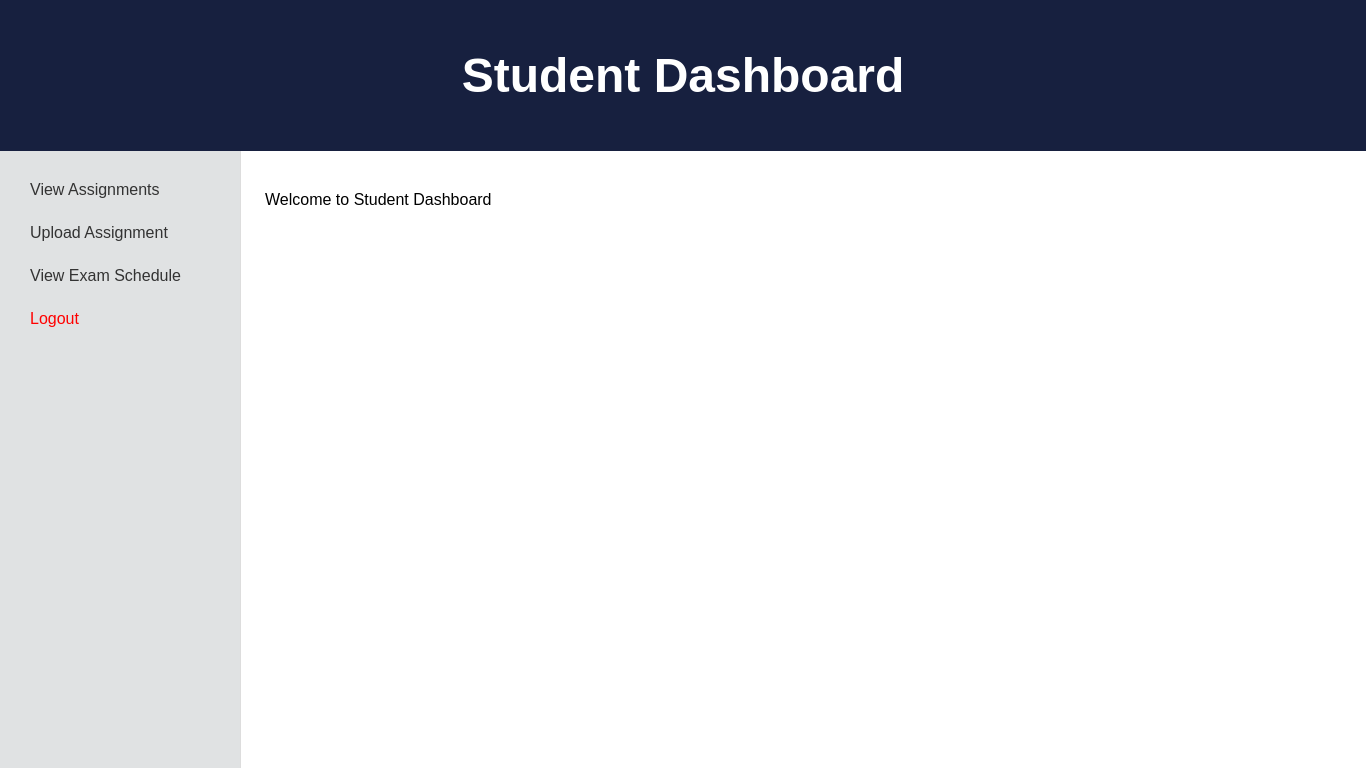
Test: StudentDashboard › renders assignments tab content when "View Assignments" is clicked
This screenshot has width=1366, height=768.
Click the list item "View Assignments": click(95, 190) x1=30 y1=181 x2=160 y2=198
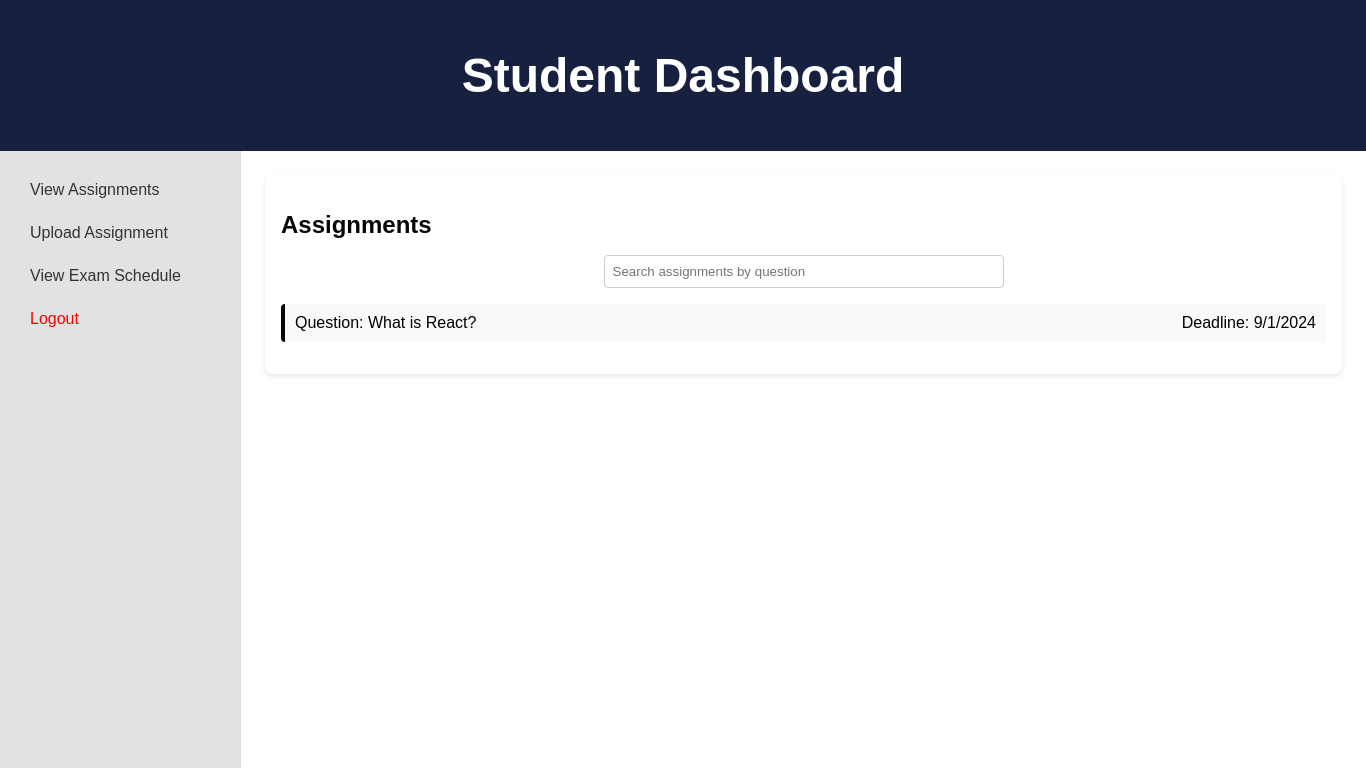
Expected: the heading "Assignments" is shown, x1=281 y1=211 x2=432 y2=238
Expected: the text "Question: What is React?" is shown, x1=295 y1=314 x2=476 y2=332
